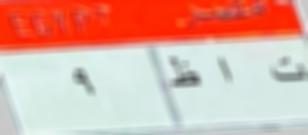9: (69, 64, 100, 107)
Thaa: (167, 51, 202, 99)
alif: (210, 51, 236, 94)
taa: (269, 50, 308, 93)
